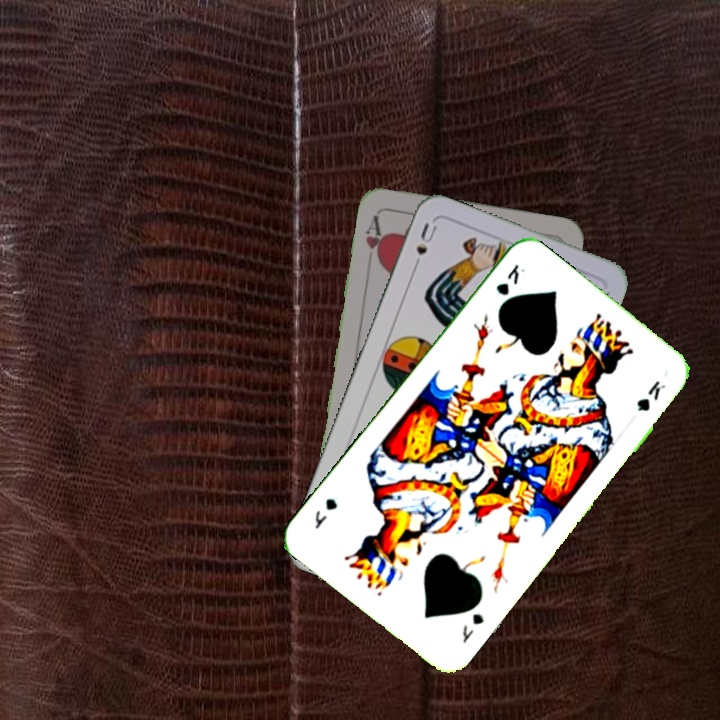GK: (491, 259, 528, 299), (458, 609, 487, 646)
HA: (361, 211, 388, 269)
SU: (408, 219, 440, 275)
